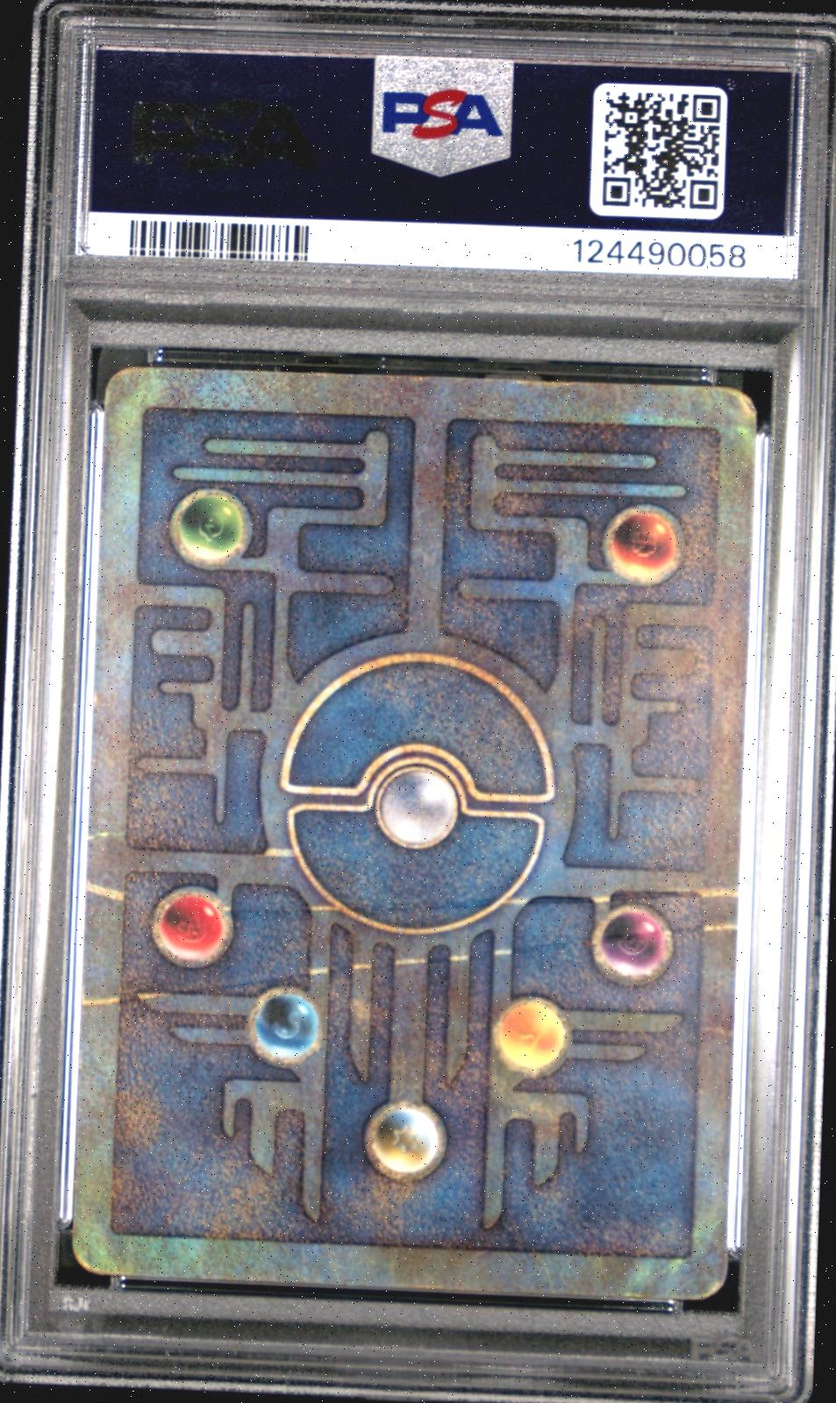card-2UtV: (70, 366, 757, 1301)
